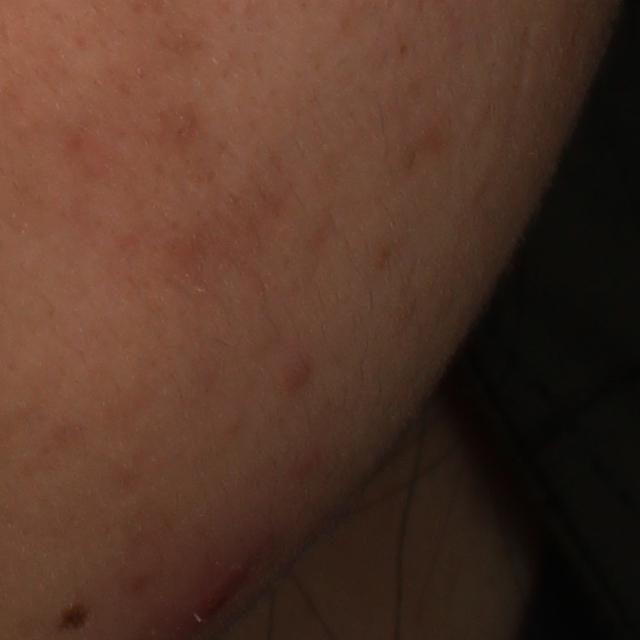nevus: (51, 598, 95, 636)
